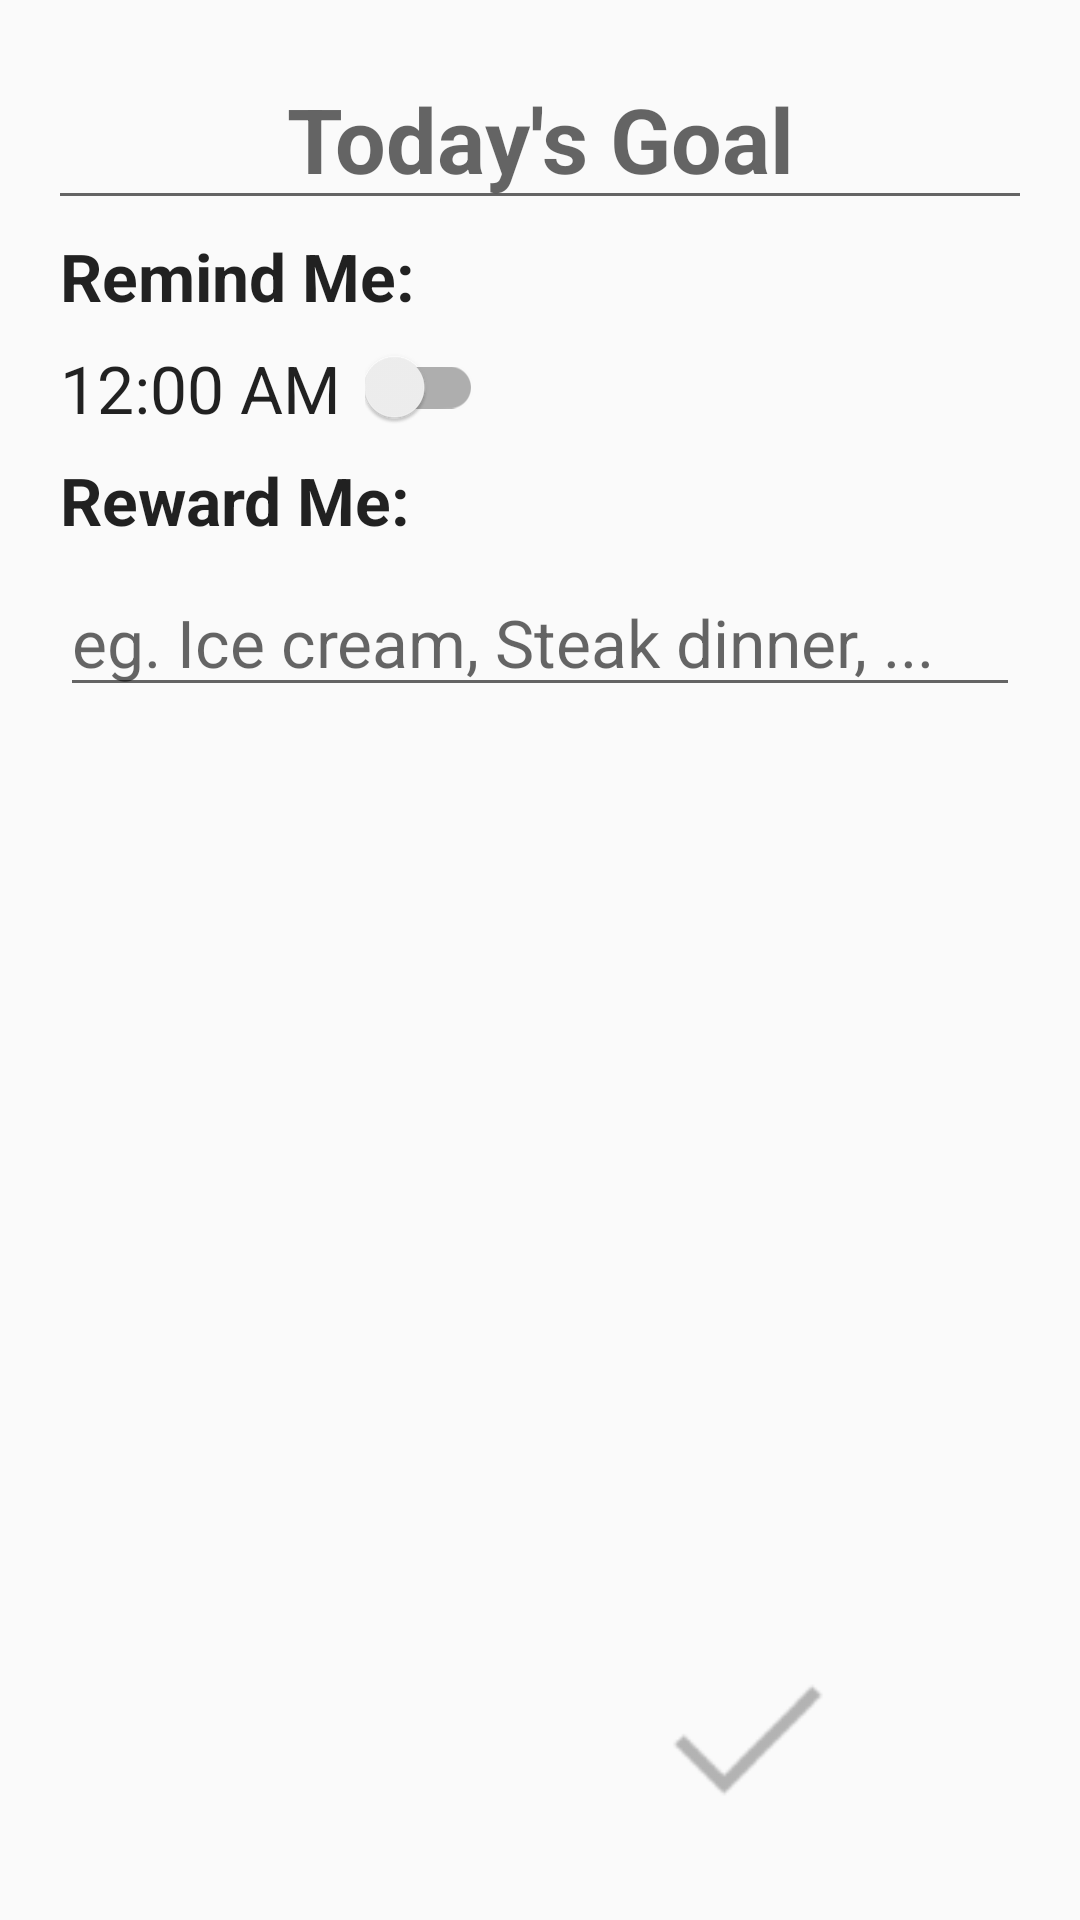

Named icons in this screenshot (1080 × 1920) and their centers, point (x, y):
confirm: point (748, 1740)
